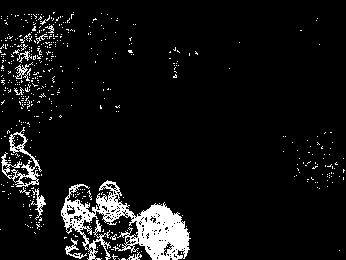person: (1, 133, 45, 233), (95, 179, 137, 260), (60, 182, 100, 260), (168, 45, 183, 79)
